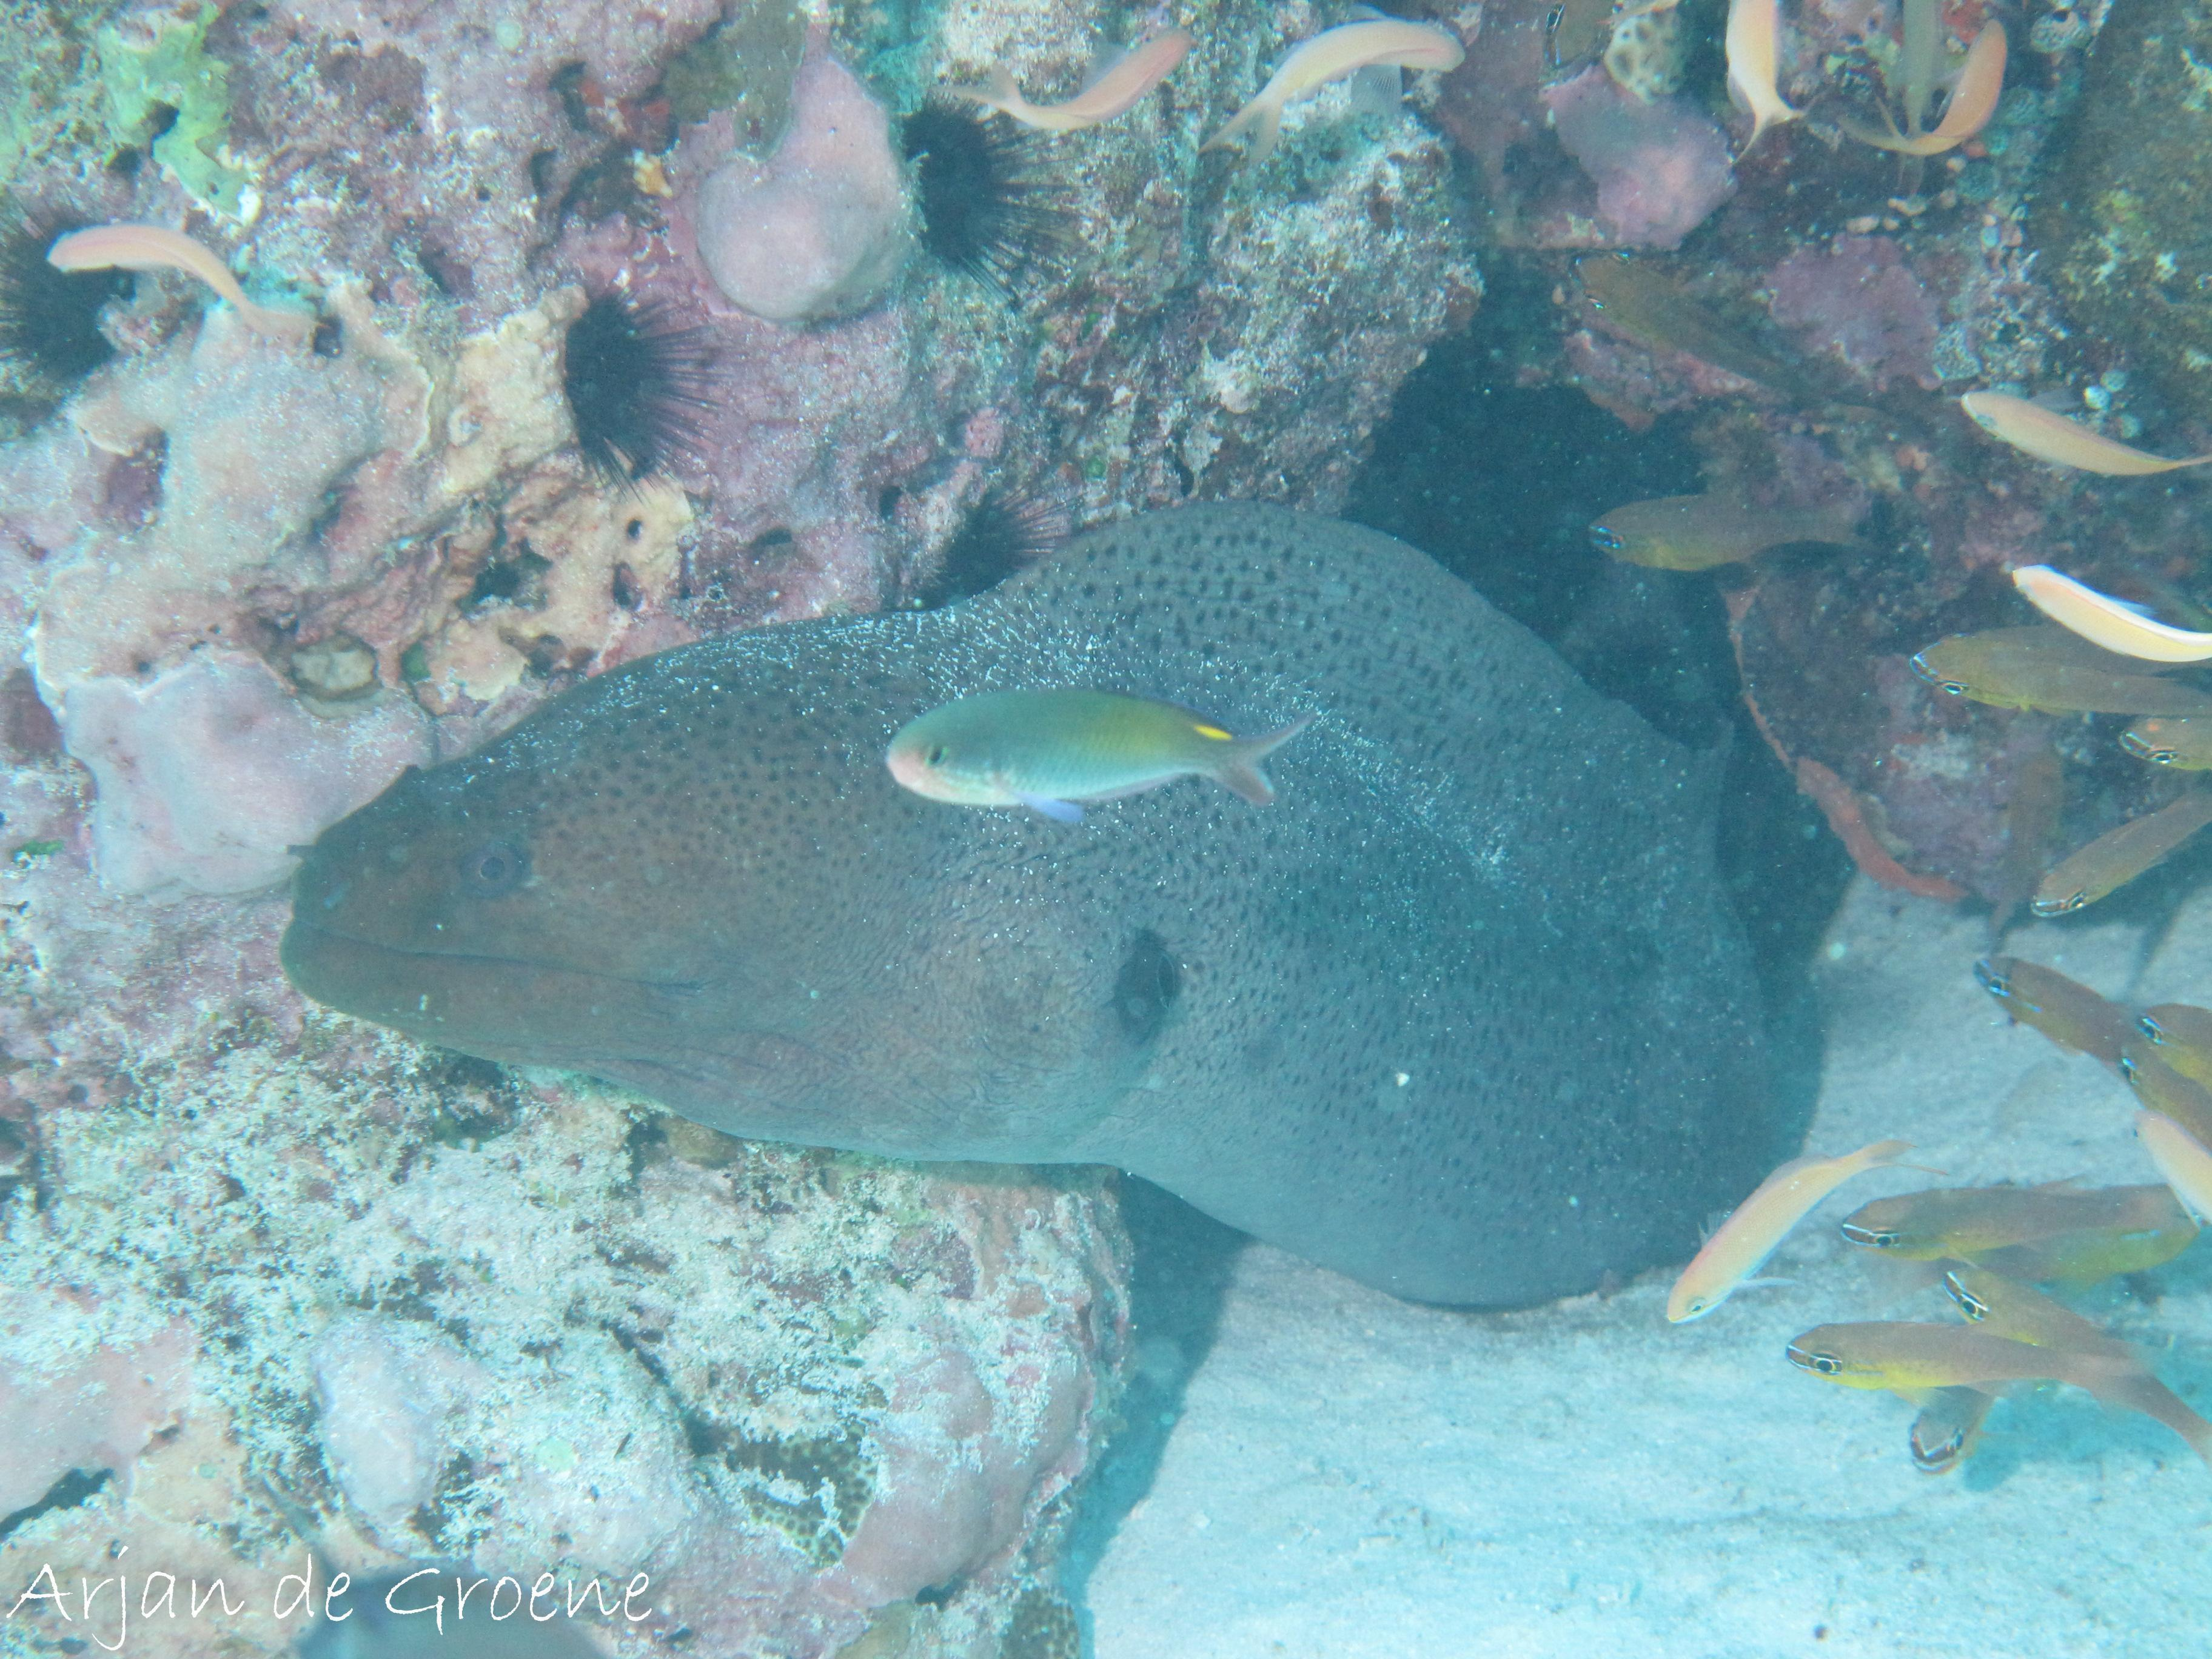Fish: (258, 486, 1886, 1324)
